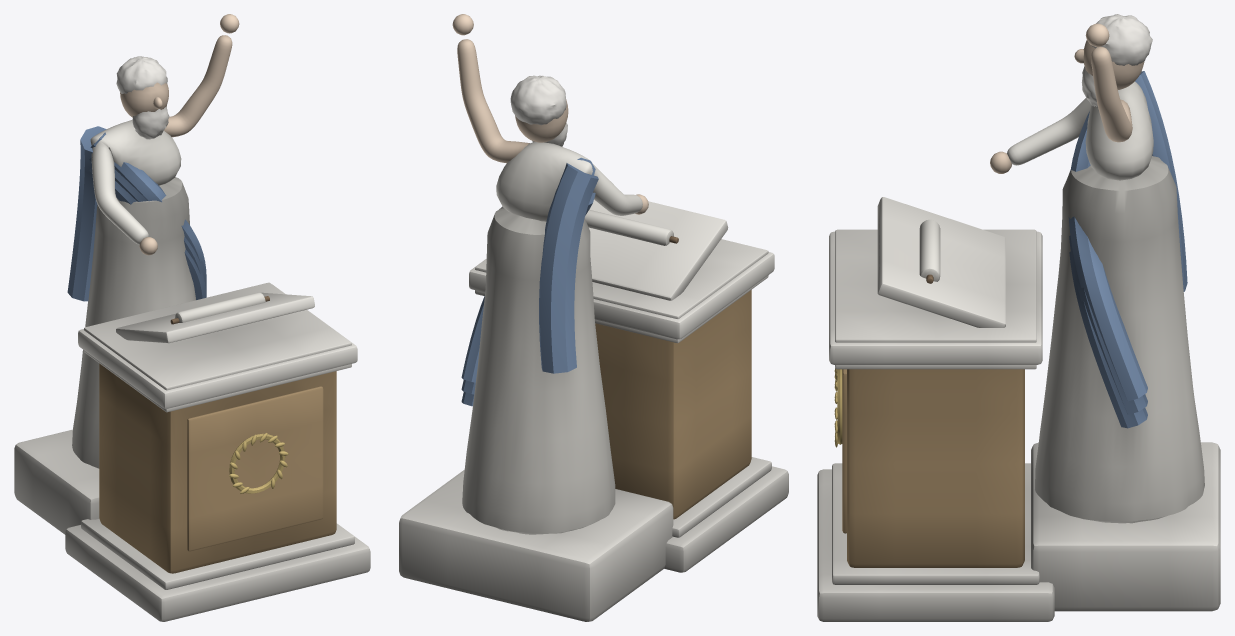
The model's file is obj_kit_orator.glb.
3 renders of one model, left to right at view 1: azimuth 30°, elevation 25°; view 2: azimuth 150°, elevation 25°; view 3: azimuth 270°, elevation 25°, orthographic. The views are drawn at different scales.
Parts seen in each view (by area): view 1: Cube.002, Cube.003, chiton, Cube.006, Cube, Cube.008, Cube.004, torso, Cube.001, Cube.007, himback, armR (+9 smaller); view 2: chiton, Cube.002, Cube.008, Cube.007, himback, torso, Cube, Cube.006, Cube.004, armR, Sphere.019, Cube.001 (+4 smaller); view 3: chiton, Cube.002, Cube.008, Cube.006, Cube.007, Cube, Cube.004, torso, Cube.001, him, armR, Sphere.019 (+7 smaller).
Boxes of the visible parts, box(x1,y1,x2,y2) form: Cube.002: box(99, 363, 336, 573); Cube.003: box(187, 386, 323, 551); chiton: box(72, 177, 195, 468); Cube.006: box(84, 282, 351, 390); Cube: box(65, 525, 370, 621); Cube.008: box(14, 429, 99, 534); Cube.004: box(78, 284, 357, 408); torso: box(90, 119, 181, 244); Cube.001: box(81, 518, 354, 589); Cube.007: box(116, 292, 314, 343); himback: box(67, 126, 106, 301); armR: box(164, 35, 232, 137); chiton: box(462, 206, 615, 534); Cube.002: box(595, 290, 751, 519); Cube.008: box(399, 470, 673, 621); Cube.007: box(589, 199, 728, 300); himback: box(539, 163, 598, 373); torso: box(496, 142, 642, 221); Cube: box(664, 466, 788, 572); Cube.006: box(475, 239, 768, 318); Cube.004: box(469, 252, 774, 339); armR: box(457, 39, 529, 163); Sphere.019: box(510, 75, 566, 125); Cube.001: box(672, 457, 771, 537); chiton: box(1035, 156, 1204, 523); Cube.002: box(847, 369, 1024, 567); Cube.008: box(1031, 442, 1220, 611); Cube.006: box(835, 229, 1036, 342); Cube.007: box(877, 197, 1005, 327); Cube: box(817, 469, 1054, 621); Cube.004: box(829, 231, 1042, 364); torso: box(1007, 81, 1153, 180); Cube.001: box(832, 463, 1039, 584); him: box(1068, 111, 1147, 401); armR: box(1091, 46, 1132, 142); Sphere.019: box(1091, 14, 1152, 65).
Size of the model in its own units: 1 by 2.17 by 1.36.
